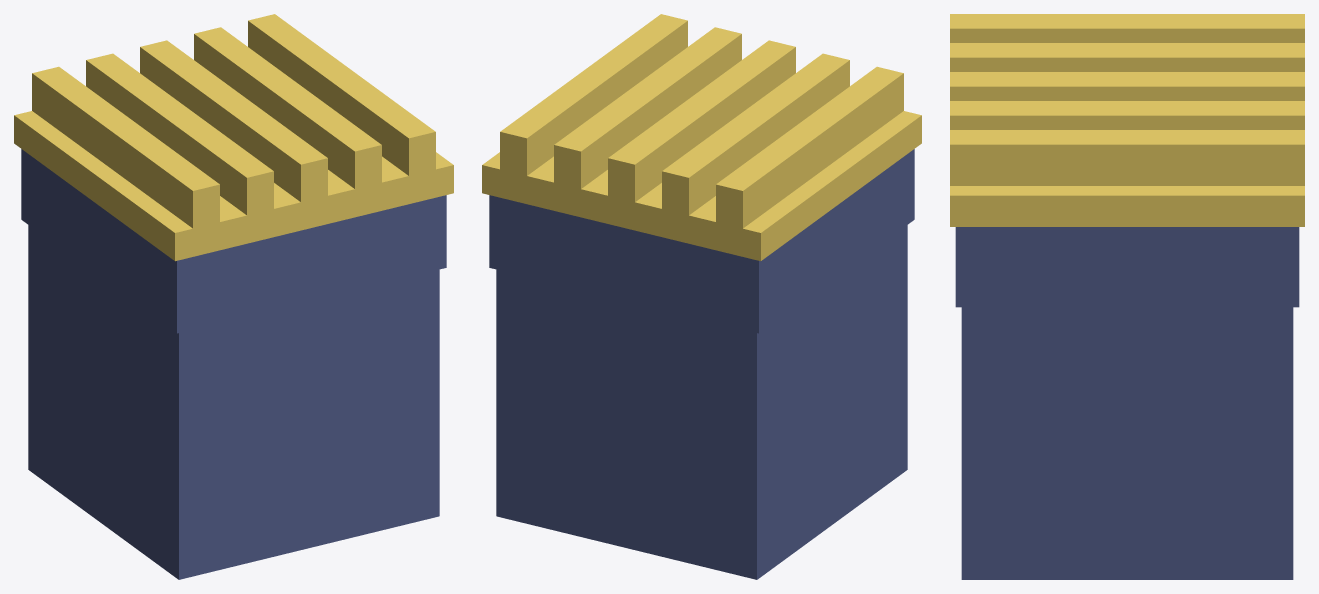
Rendered from casaco_capitao_manga_sup.glb.
The picture shows the model from 3 angles, left to right: view 1: azimuth 30°, elevation 25°; view 2: azimuth 150°, elevation 25°; view 3: azimuth 270°, elevation 25°; orthographic projection. The views are drawn at different scales.
Visible parts, largest first — view 1: casaco_capitao_manga_sup; view 2: casaco_capitao_manga_sup; view 3: casaco_capitao_manga_sup.
Boxes of the visible parts, x1,y1,x2,y2 form: casaco_capitao_manga_sup: (14, 14, 453, 579); casaco_capitao_manga_sup: (482, 14, 921, 579); casaco_capitao_manga_sup: (950, 14, 1304, 579).
Bounding box in the file's own units: 0.31 × 0.415 × 0.31.
